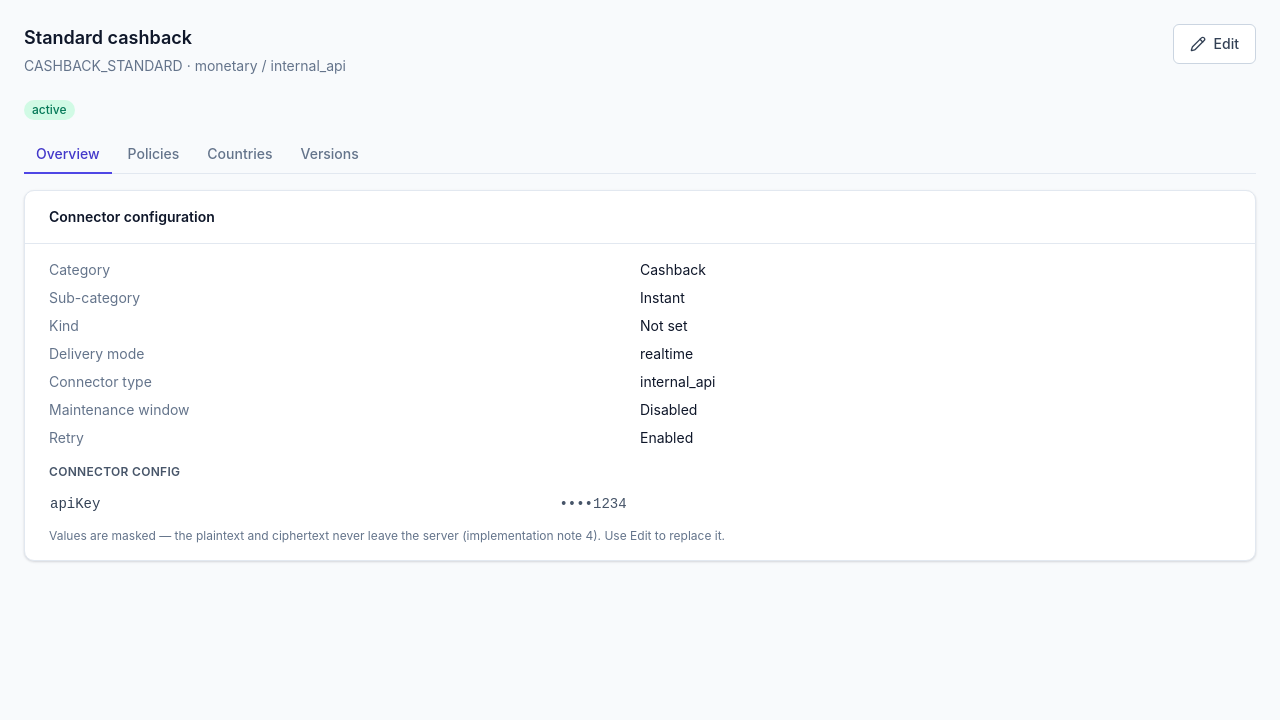
Test: RewardDetailPage › renders reward policies once populated, on the Policies tab
Click the tab "Policies" at (153, 155), box [116,136,191,174]
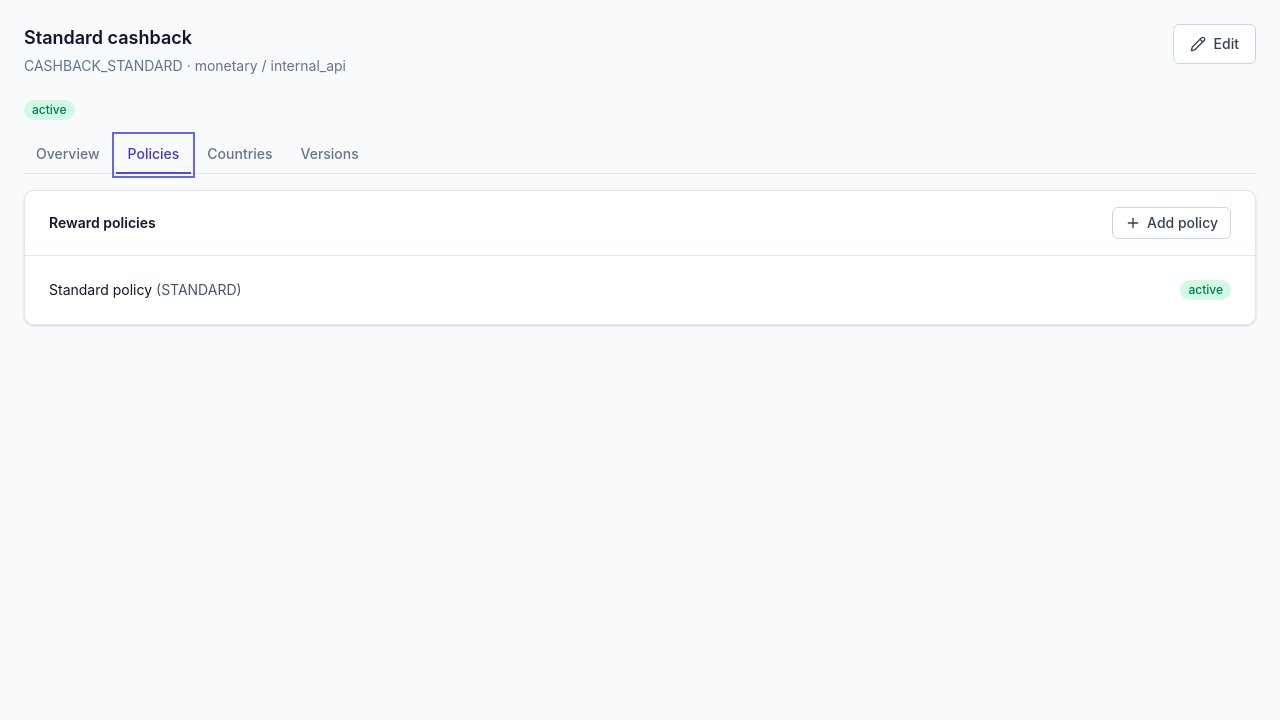
Check: the text "Standard policy" is shown, box [49,281,152,298]
Check: the button "Add policy" is shown, box [1112,207,1231,239]
